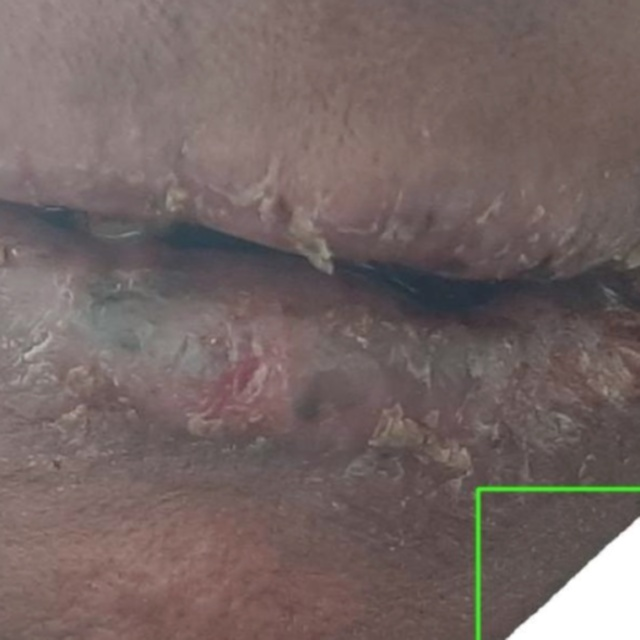Contact Dermatitis: (478, 488, 639, 639)
